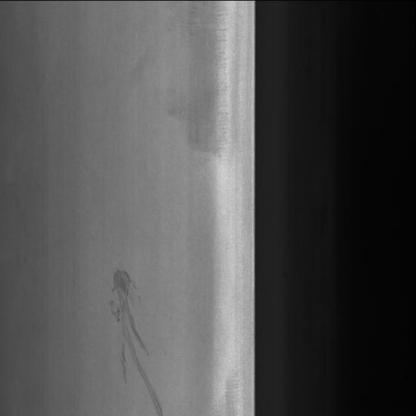water_spot: (98, 256, 174, 416)
